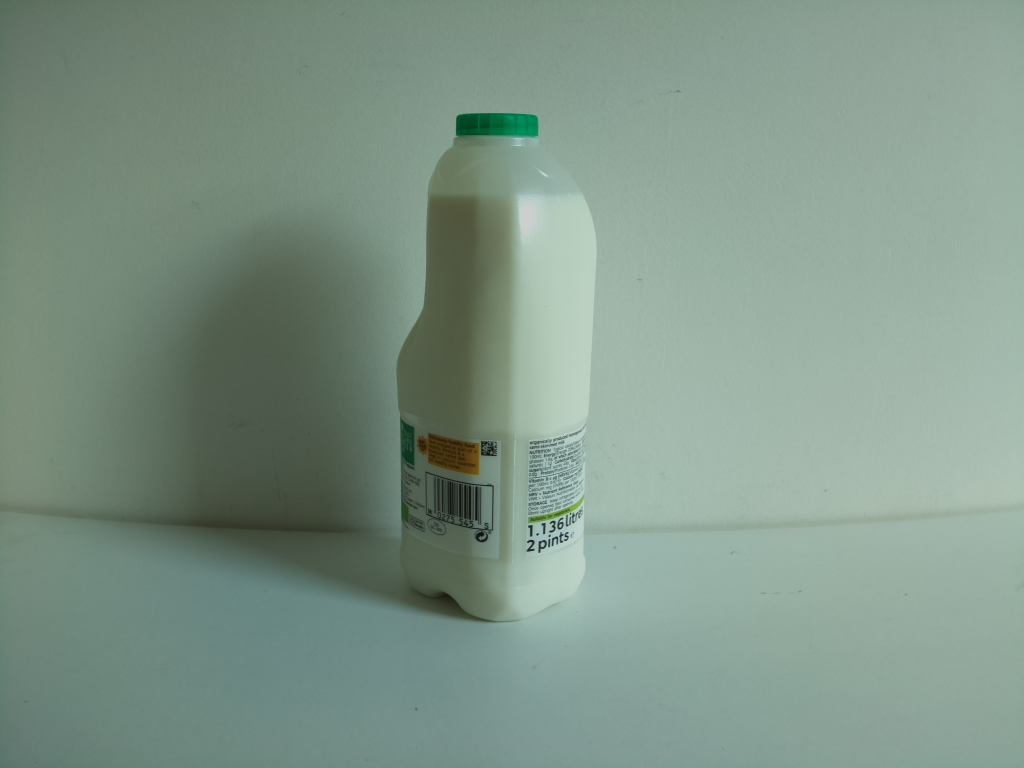milk: (389, 110, 601, 626)
